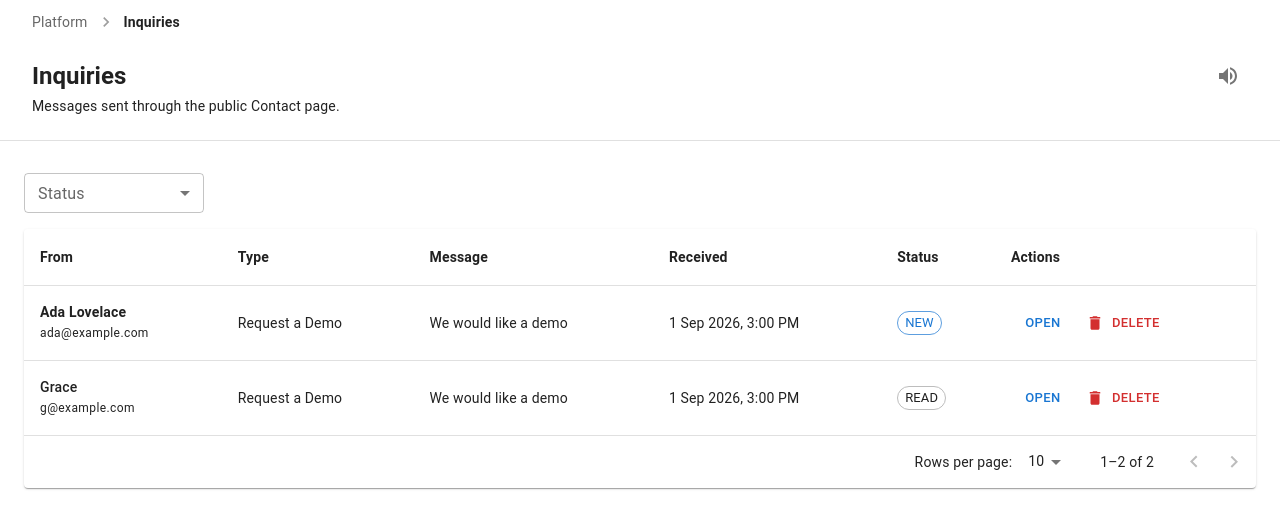
Test case: Inquiries page › reloads the list in place when a live inquiry arrives, keeping the current filter
The width and height of the screenshot is (1280, 507).
Expected: the text "Ada Lovelace" is shown, [40, 304, 126, 320]
Press the mouse on the dropdown named "Status" at (114,193), box [24, 173, 204, 213]
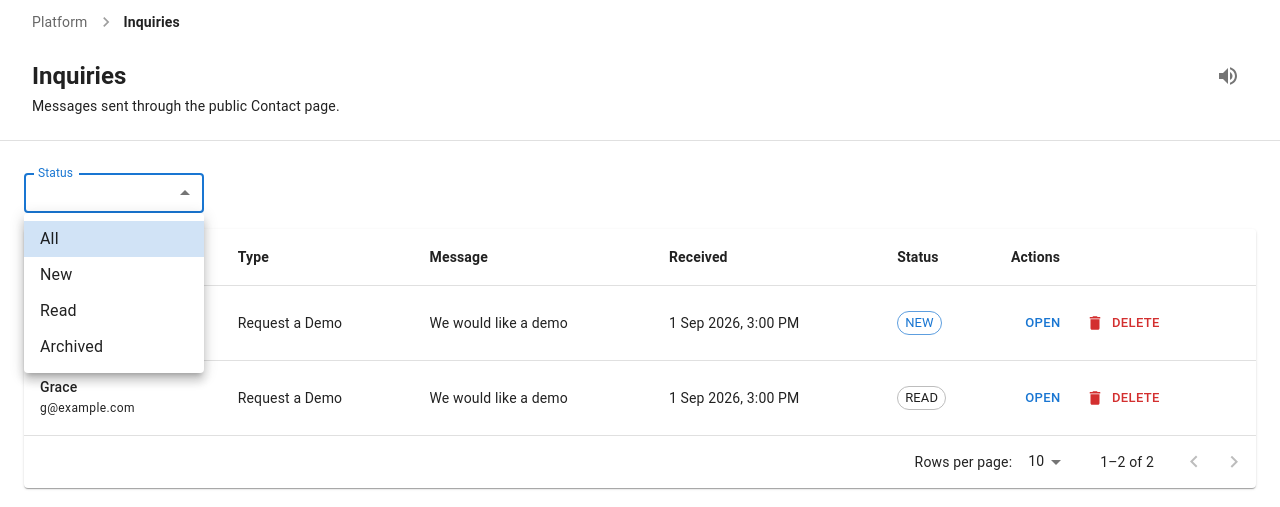
Click the option "New".
click(56, 274)  # box [40, 265, 72, 284]
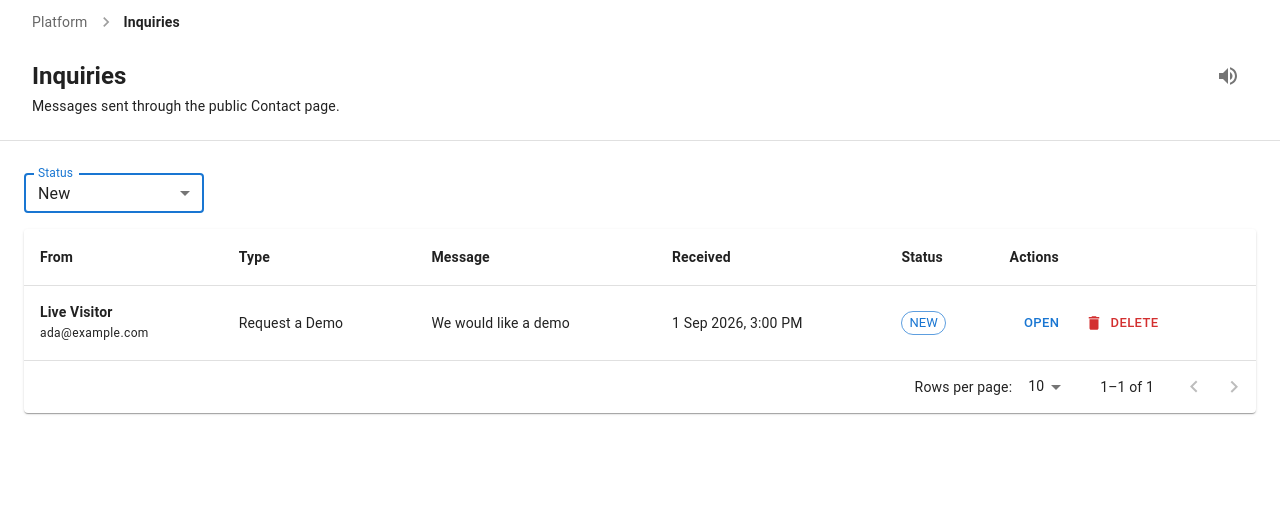
Expected: the text "Live Visitor" is shown, [40, 304, 112, 320]
